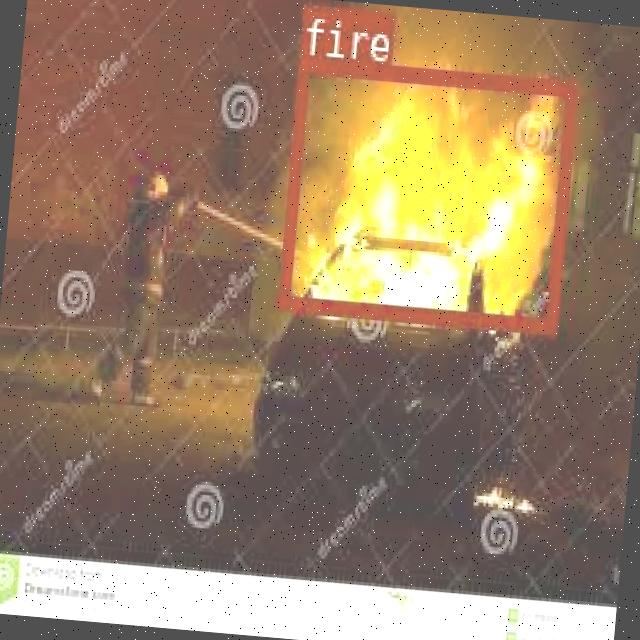fire: (274, 54, 576, 332)
